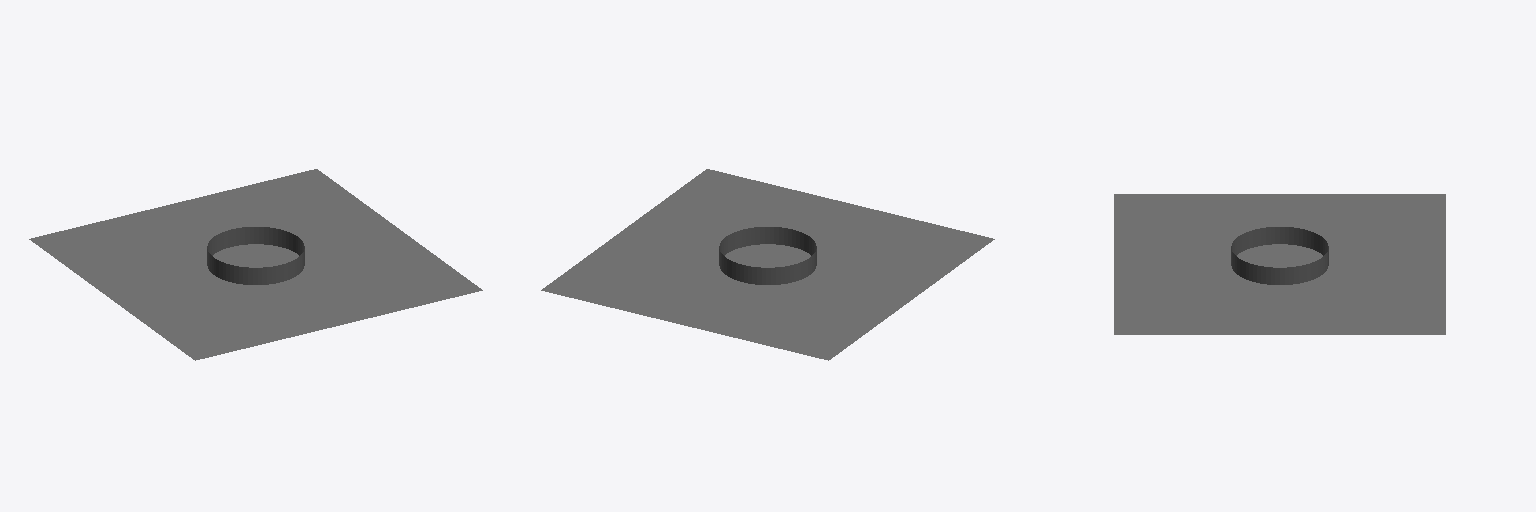
Rendered from MNCardioid.obj.
3 renders of one model, left to right at view 1: azimuth 30°, elevation 25°; view 2: azimuth 150°, elevation 25°; view 3: azimuth 270°, elevation 25°, orthographic.
Parts seen in each view (by area): view 1: Plane_Plane_MediumGrey, Tube_Tube.001_Reflective; view 2: Plane_Plane_MediumGrey, Tube_Tube.001_Reflective; view 3: Plane_Plane_MediumGrey, Tube_Tube.001_Reflective.
Boxes of the visible parts, x1,y1,x2,y2 form: Plane_Plane_MediumGrey: [29, 169, 482, 360]; Tube_Tube.001_Reflective: [207, 227, 304, 284]; Plane_Plane_MediumGrey: [541, 169, 994, 360]; Tube_Tube.001_Reflective: [719, 227, 816, 284]; Plane_Plane_MediumGrey: [1114, 194, 1445, 334]; Tube_Tube.001_Reflective: [1231, 227, 1328, 284].
Size of the model in its own units: 34.2 by 2 by 34.2.